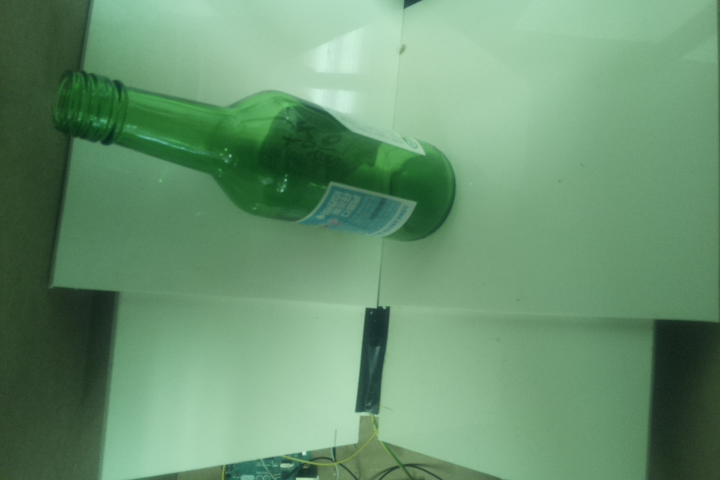soju: (49, 68, 458, 244)
